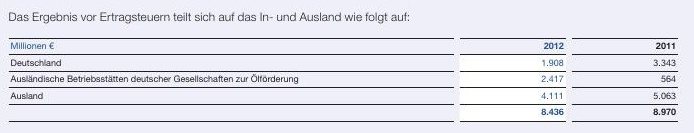table: (0, 0, 694, 133)
